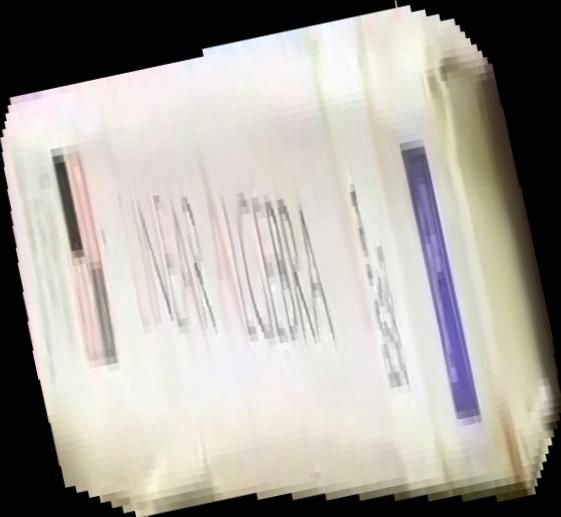flat: (1, 1, 561, 517)
